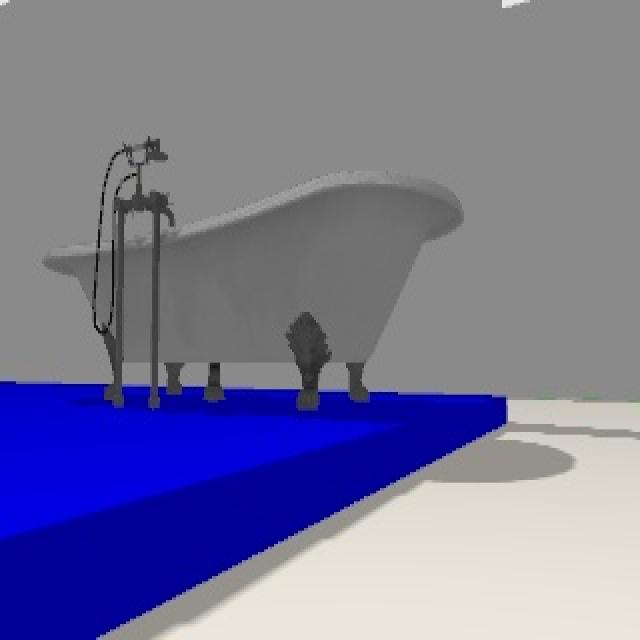bathtub: (43, 138, 462, 414)
